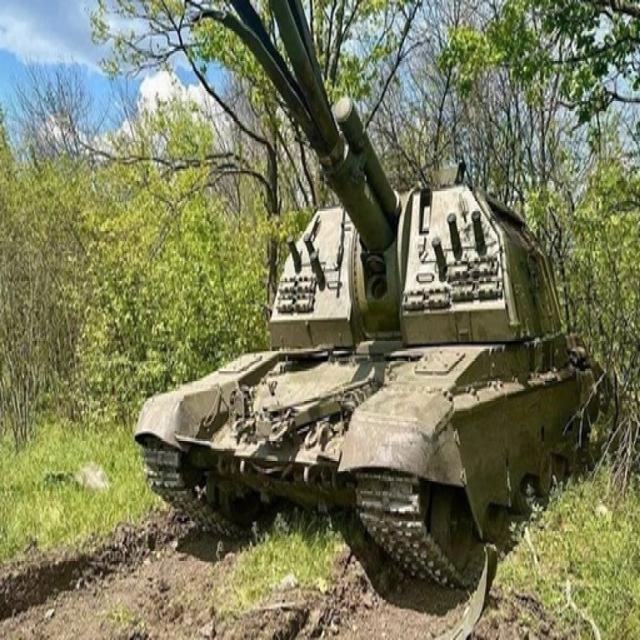ART: (130, 5, 605, 591)
